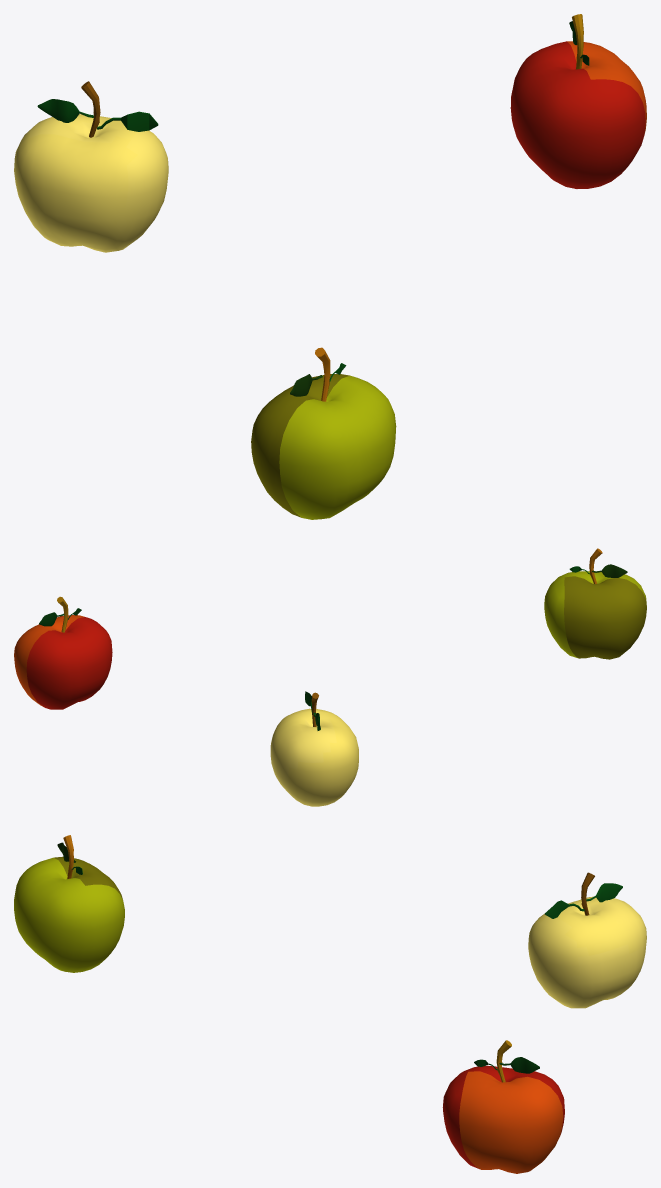
The model's file is Apples.fbx.
3 views of the same model, one above another, from view 1: azimuth 30°, elevation 25°; view 2: azimuth 150°, elevation 25°; view 3: azimuth 270°, elevation 25° (orthographic). The views are drawn at different scales.
Parts seen in each view (by area): view 1: Cube.012, Cube.008, Cube.017, Cube.021, Cube.016, Cube.015; view 2: Cube.012, Cube.008, Cube.021, Cube.017, Cube.016; view 3: Cube.012, Cube.017, Cube.016, Cube.008, Cube.021.
Part boxes in pixels (box(x1,y1,x2,y2)): Cube.012: box(14, 114, 168, 252); Cube.008: box(510, 41, 645, 188); Cube.017: box(279, 375, 396, 519); Cube.021: box(251, 374, 349, 517); Cube.016: box(567, 41, 646, 133); Cube.015: box(37, 99, 93, 122); Cube.012: box(270, 708, 358, 806); Cube.008: box(26, 617, 112, 709); Cube.021: box(564, 576, 646, 659); Cube.017: box(544, 571, 646, 657); Cube.016: box(14, 615, 84, 706); Cube.012: box(528, 896, 646, 1008); Cube.017: box(14, 857, 124, 972); Cube.016: box(459, 1071, 563, 1173); Cube.008: box(442, 1065, 564, 1169); Cube.021: box(54, 856, 122, 899).
Bounding box in the file's own units: 650 × 153 × 689.
1 material, 1 textured.
